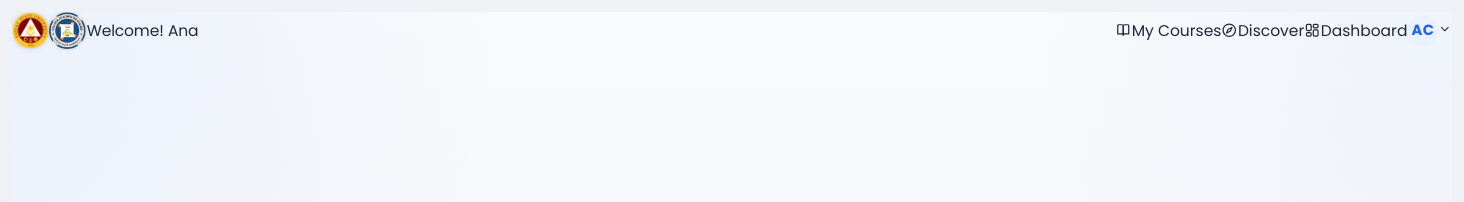
Student account menu › sends the student to the certifications page
The image size is (1464, 202).
Click the button with aria-label "Account menu for Ana Cruz".
click(1430, 30)  # box x1=1407 y1=15 x2=1452 y2=46
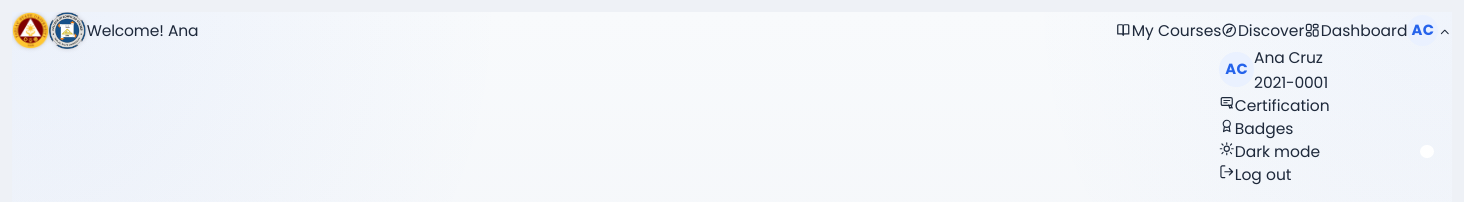
Click the menu item "Certification".
click(1336, 105)  # box x1=1219 y1=94 x2=1452 y2=117
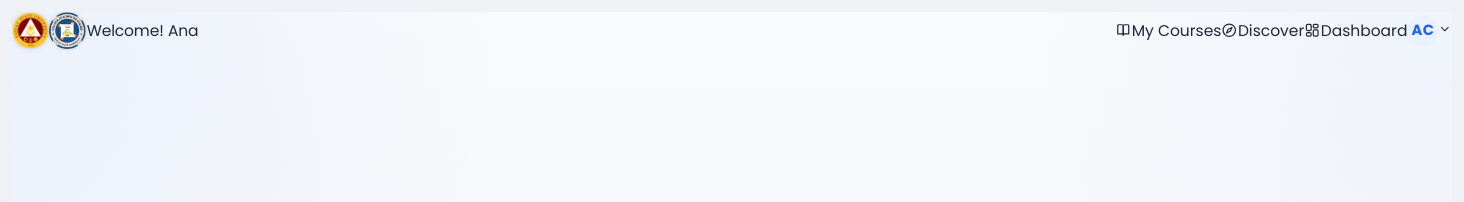
Expected: the menu with class "sd-menu" is gone
